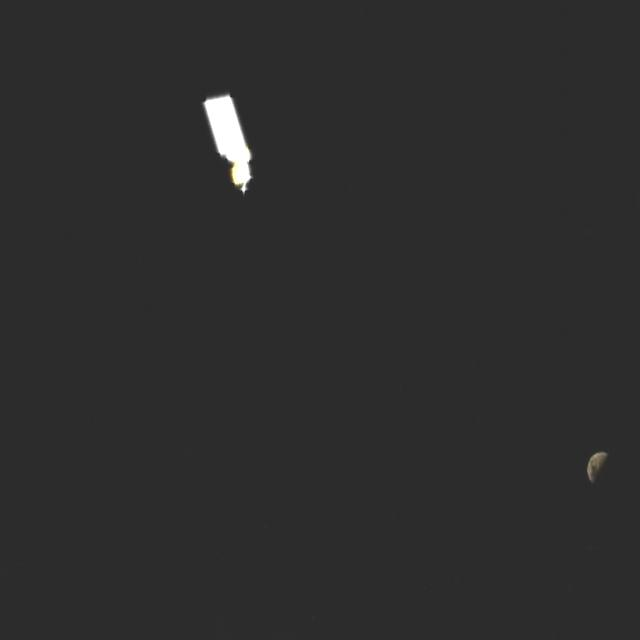satellite: (203, 82, 270, 212)
